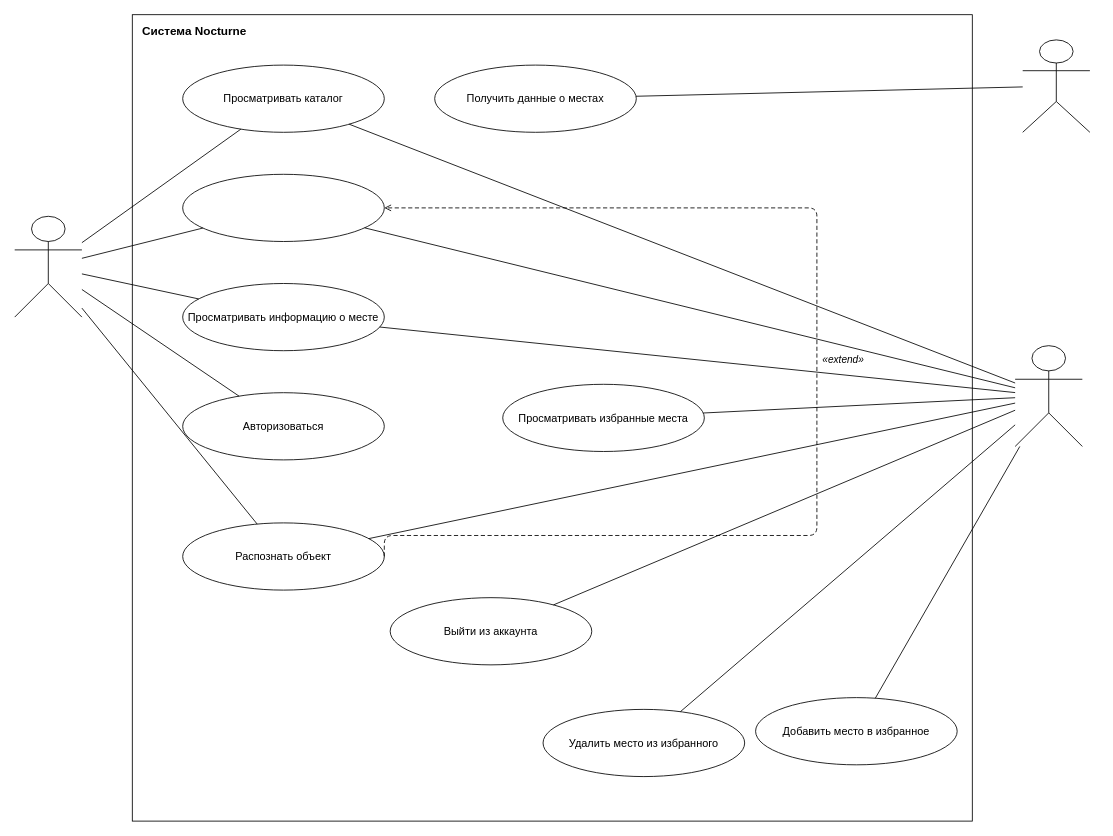
Some shapes in this 1113 by 836 pixel diagram are drawn without their labels. Here are the shapes that lost their labels. From the top down, the centre of each, then its label:
point (1056, 85): Внешний сервис (JSON-API)
point (283, 207): Искать место
point (48, 266): Гость
point (1048, 395): Авторизованный пользователь
